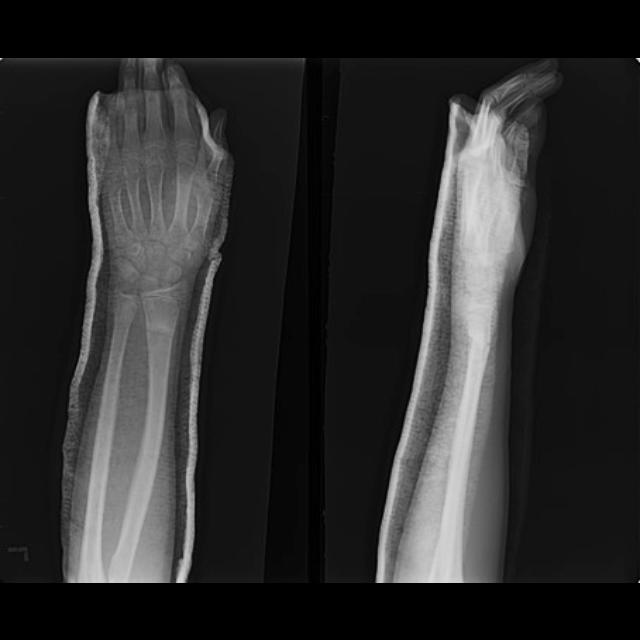Fracture: (145, 316, 176, 350), (467, 325, 492, 365)
